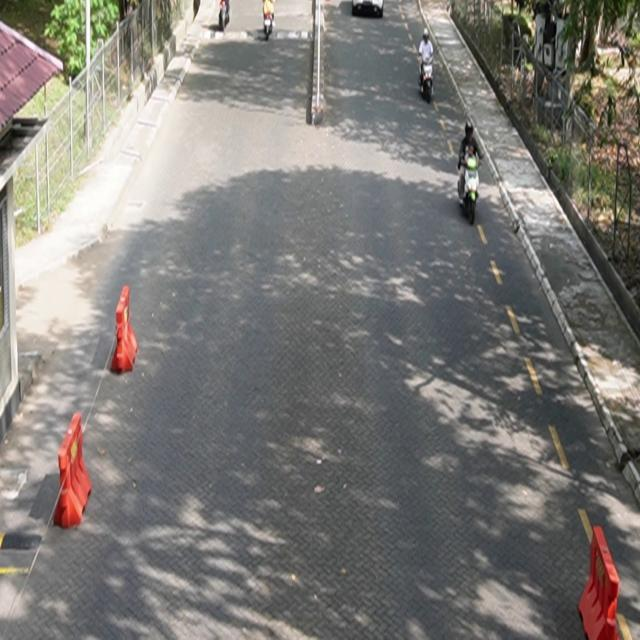car: (353, 1, 385, 18)
